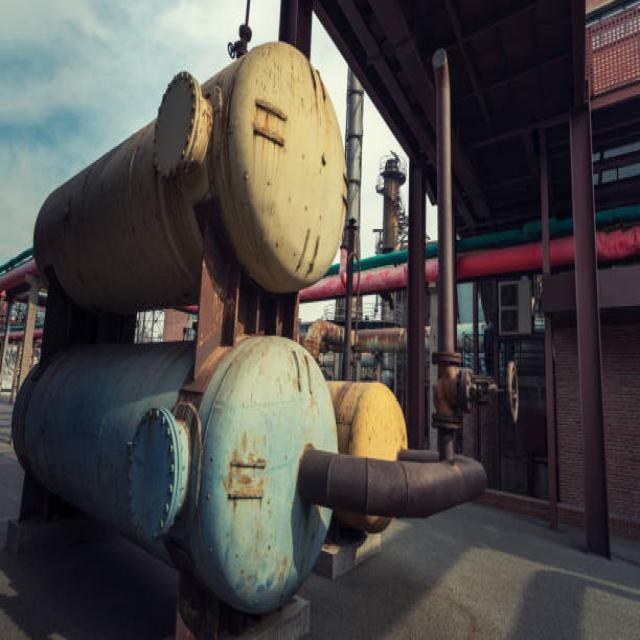compressor: (26, 344, 448, 611), (32, 34, 350, 317), (373, 150, 406, 252)
corrosion detected: (188, 332, 340, 616), (208, 38, 350, 296), (323, 375, 410, 538), (150, 68, 214, 188)
